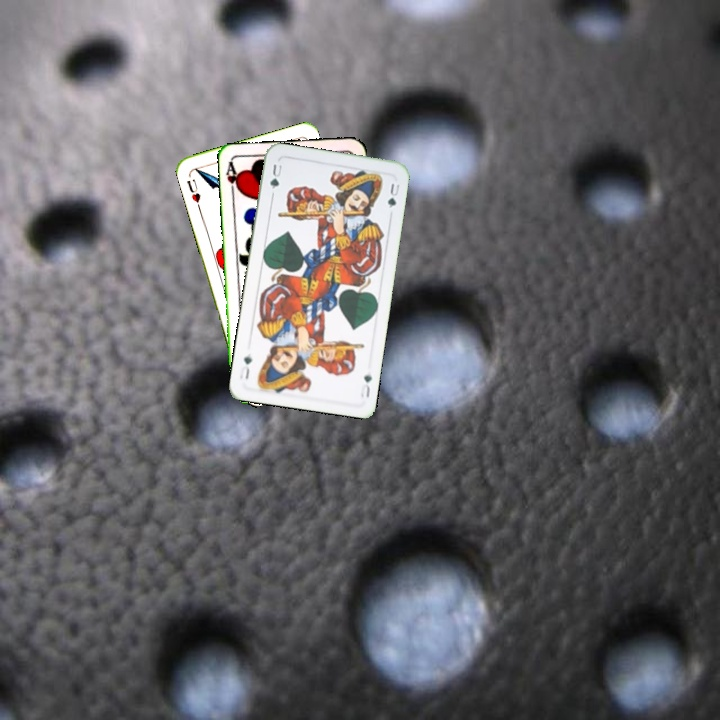GU: (266, 160, 285, 191), (356, 370, 374, 400)
HA: (222, 159, 243, 199)
HU: (183, 175, 203, 211)
